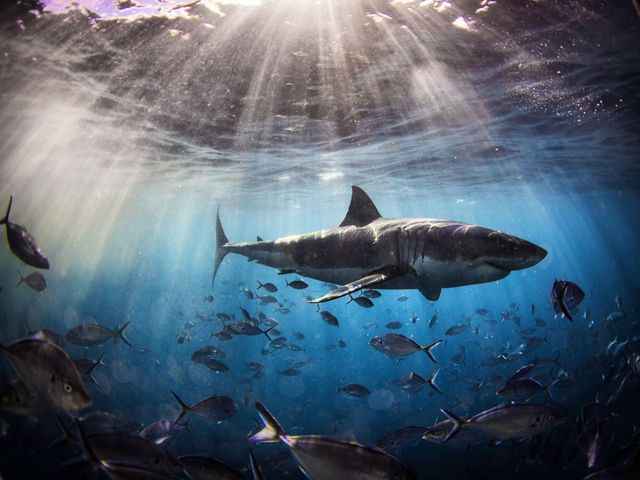shark: (179, 190, 561, 312)
